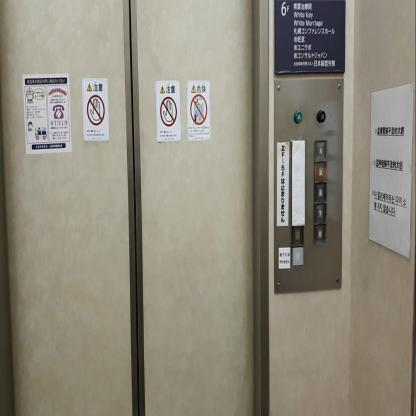6: (314, 223, 326, 244)
7: (314, 203, 326, 224)
8: (313, 182, 327, 203)
9: (314, 161, 326, 182)
R: (314, 139, 327, 161)
empty: (292, 224, 303, 245), (292, 246, 303, 265)
text: (294, 109, 301, 123), (317, 110, 325, 122)
